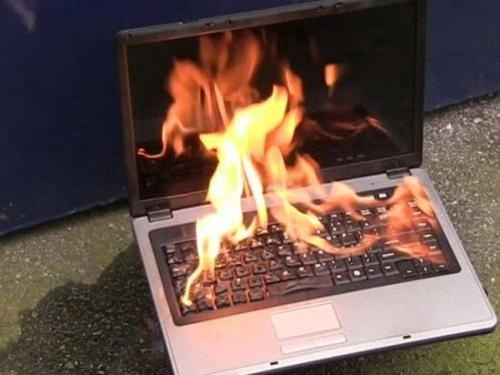fire: (147, 32, 390, 273)
